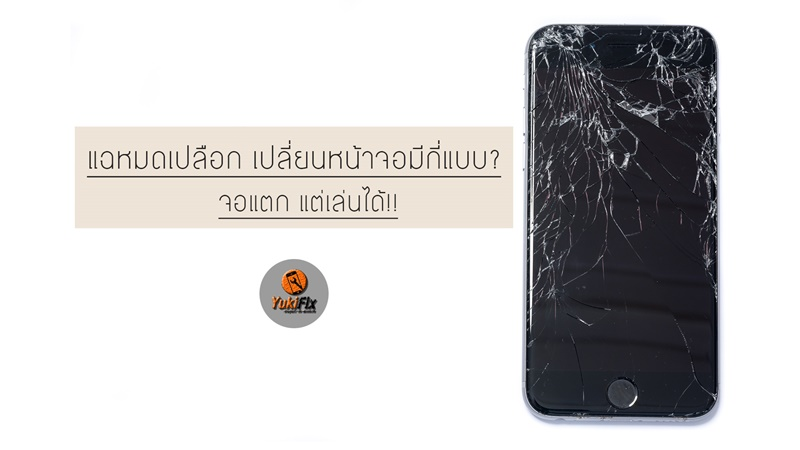Phone: (521, 21, 721, 426)
